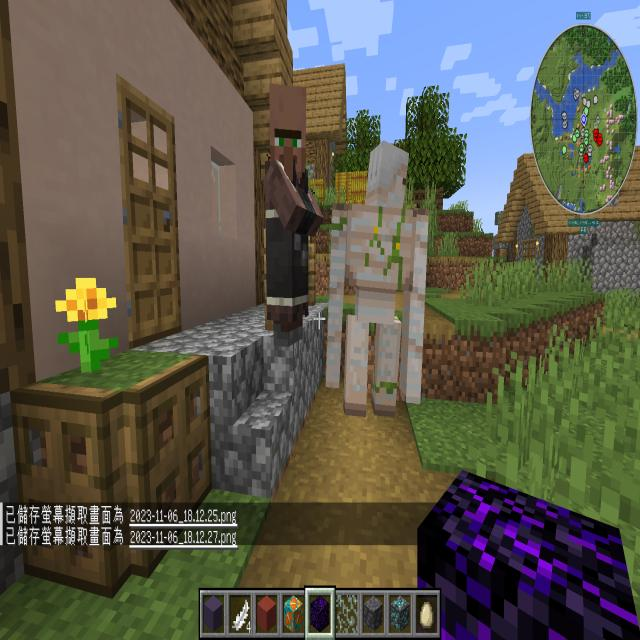iron golem: (321, 133, 437, 429)
